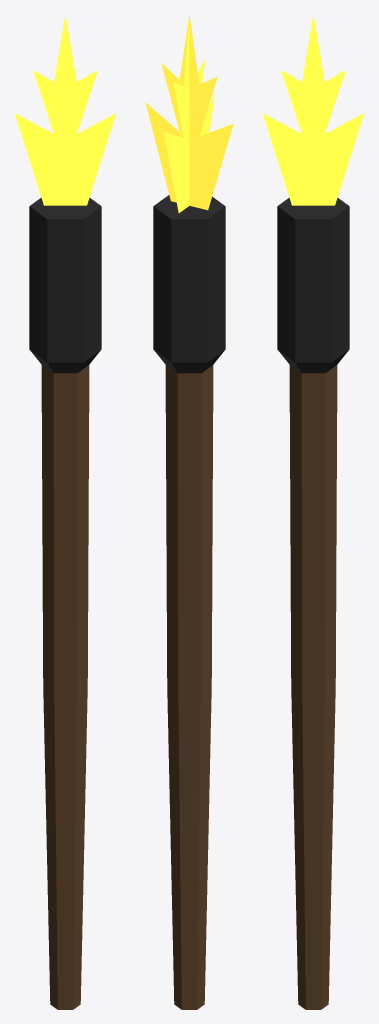
File: torche.glb
3 views of the same model, side by side, from view 1: azimuth 90°, elevation 25°; view 2: azimuth 150°, elevation 25°; view 3: azimuth 270°, elevation 25° (orthographic).
Visible parts, largest first — view 1: torche; view 2: torche; view 3: torche.
Part boxes in pixels (x1,y1,x2,y2): torche: [14, 14, 116, 1009]; torche: [145, 14, 233, 1009]; torche: [262, 14, 364, 1009].
Size of the model in its own units: 0.2037 by 2.18 by 0.2037.
1 material, 1 textured.
